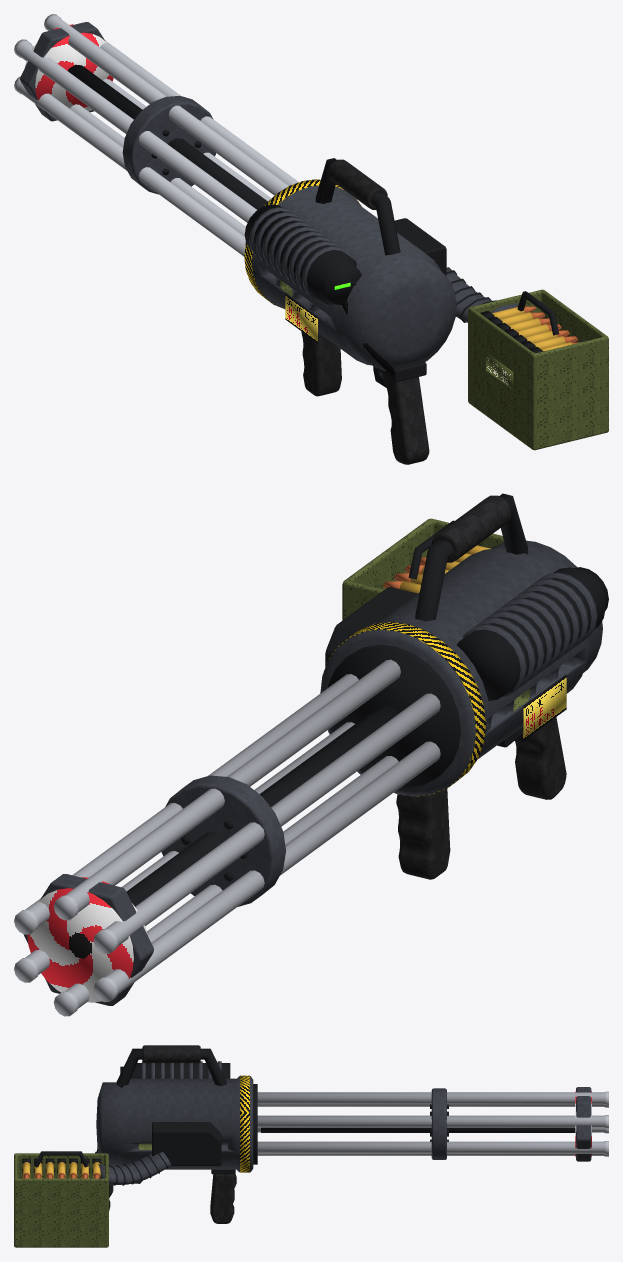
File: w_minigun.glb
The picture shows the model from 3 angles, top to bottom: view 1: azimuth 30°, elevation 25°; view 2: azimuth 150°, elevation 25°; view 3: azimuth 270°, elevation 25°; orthographic projection. The views are drawn at different scales.
Parts seen in each view (by area): view 1: minigun_body_wzA, barrels_wzB, minigun_body_wzN; view 2: barrels_wzB, minigun_body_wzA, minigun_body_wzN; view 3: minigun_body_wzA, barrels_wzB, minigun_body_wzN.
Boxes of the visible parts, left/top/right/bottom form: minigun_body_wzA: left=244, top=158, right=608, bottom=464; barrels_wzB: left=14, top=14, right=298, bottom=256; minigun_body_wzN: left=244, top=179, right=579, bottom=389; barrels_wzB: left=14, top=645, right=460, bottom=1016; minigun_body_wzA: left=320, top=493, right=608, bottom=879; minigun_body_wzN: left=320, top=545, right=566, bottom=796; minigun_body_wzA: left=14, top=1045, right=253, bottom=1247; barrels_wzB: left=253, top=1084, right=608, bottom=1164; minigun_body_wzN: left=23, top=1075, right=249, bottom=1178.
Size of the model in its own units: 0.2815 by 0.311 by 0.94.
Materials: 14 (7 with a texture image).
